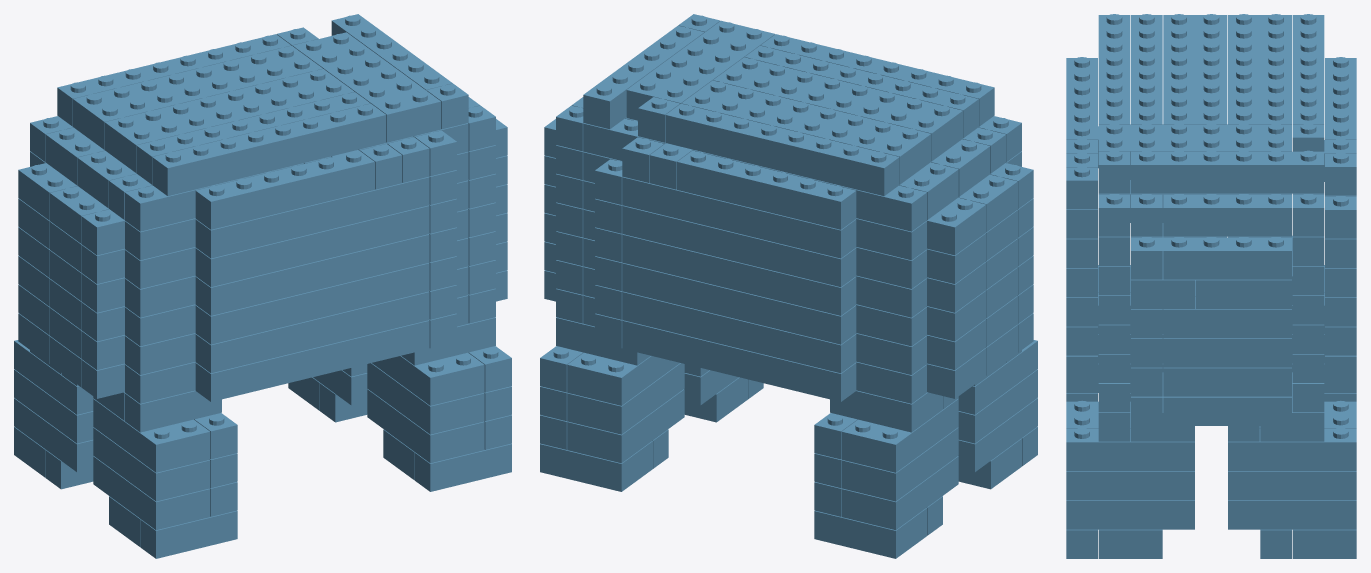
File: 114_bus_L4.glb
The picture shows the model from 3 angles, left to right: view 1: azimuth 30°, elevation 25°; view 2: azimuth 150°, elevation 25°; view 3: azimuth 270°, elevation 25°; orthographic projection. The views are drawn at different scales.
Bounding box in the file's own units: 14.98 × 13.13 × 8.98.
